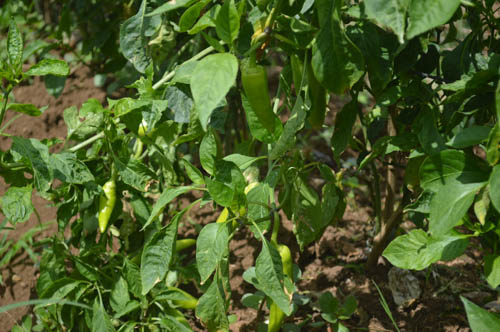ChiliPepper: (259, 248, 295, 329), (243, 70, 277, 130), (96, 183, 118, 237)
